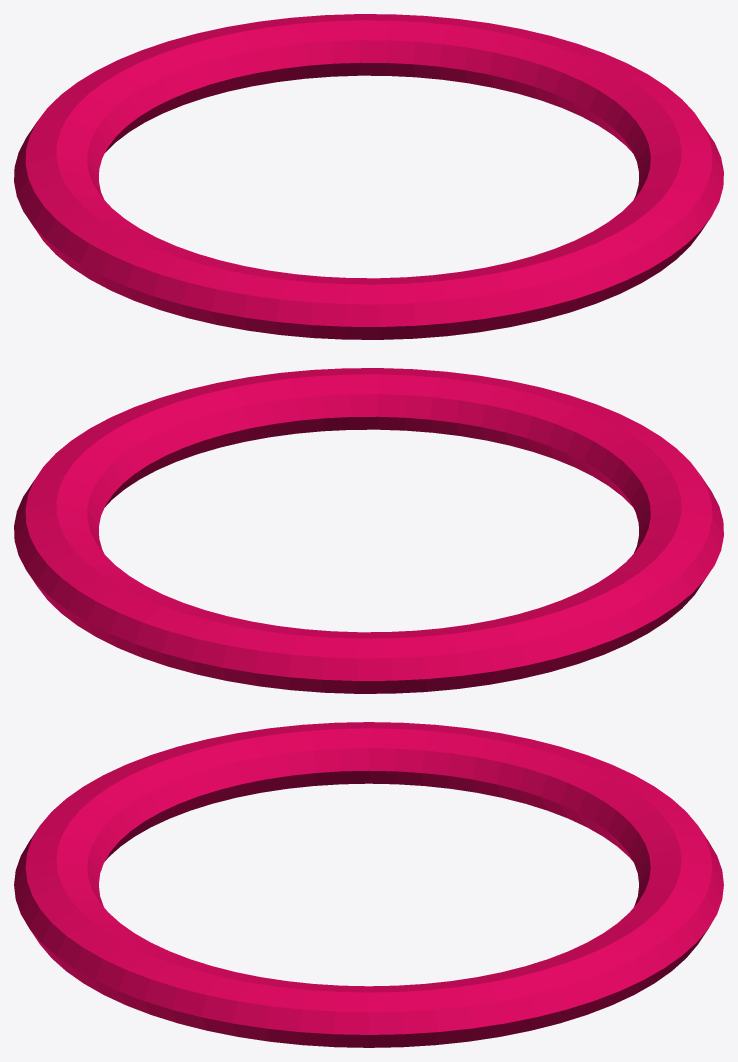
The model's file is ring.fbx.
The picture shows the model from 3 angles, top to bottom: view 1: azimuth 30°, elevation 25°; view 2: azimuth 150°, elevation 25°; view 3: azimuth 270°, elevation 25°; orthographic projection.
Visible parts, largest first — view 1: Circle; view 2: Circle; view 3: Circle.
Boxes of the visible parts, <box> form: Circle: <box>14,14,723,339</box>; Circle: <box>14,368,723,693</box>; Circle: <box>14,722,723,1047</box>.
Bounding box in the file's own units: 40.11 × 3.05 × 40.11.
